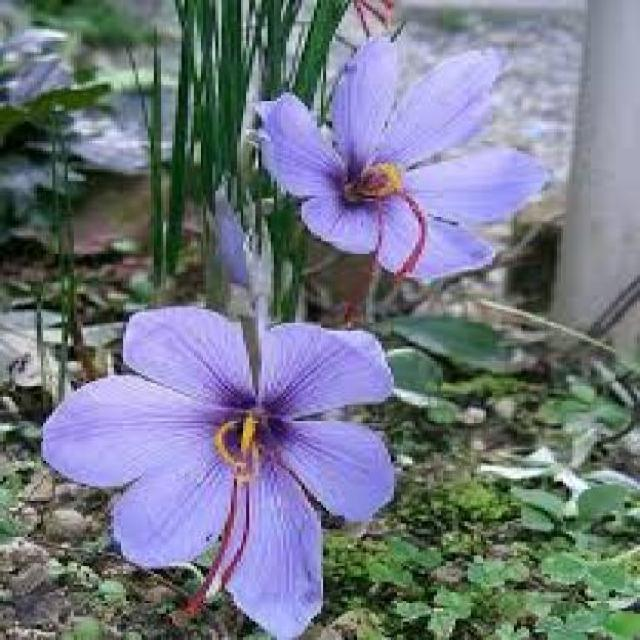saffron open: (41, 295, 393, 639), (261, 38, 542, 279)
